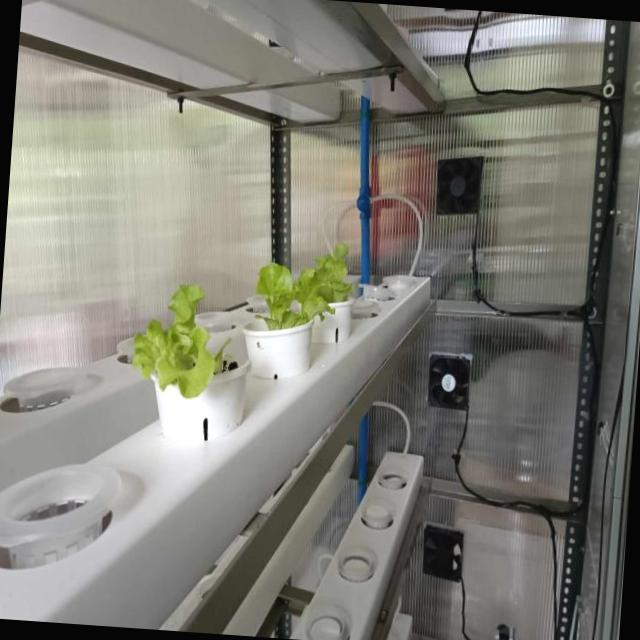Lettuce-Not-Ready-to-Harvest: (130, 284, 232, 399), (253, 262, 334, 330), (314, 242, 353, 303)
